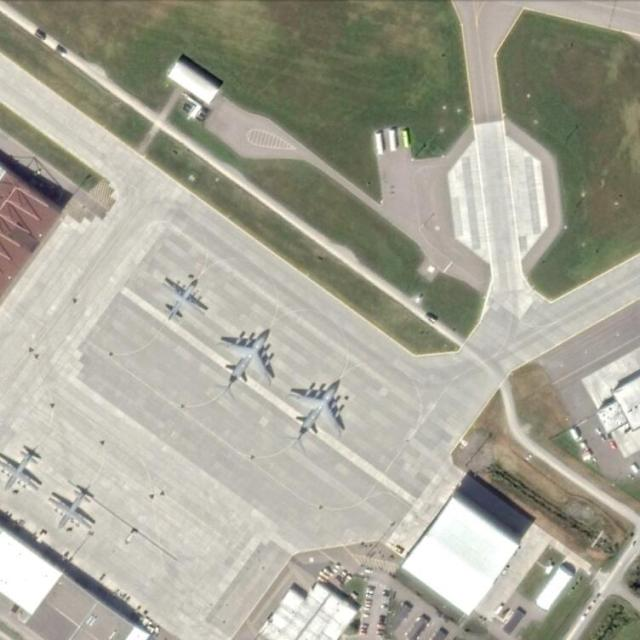fighter jet: (221, 330, 275, 394), (292, 381, 344, 446), (52, 485, 102, 538), (0, 444, 45, 501), (163, 274, 201, 323)
